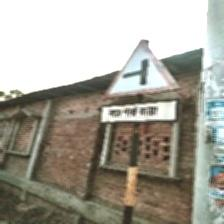Side-road-left: (103, 39, 178, 126)
